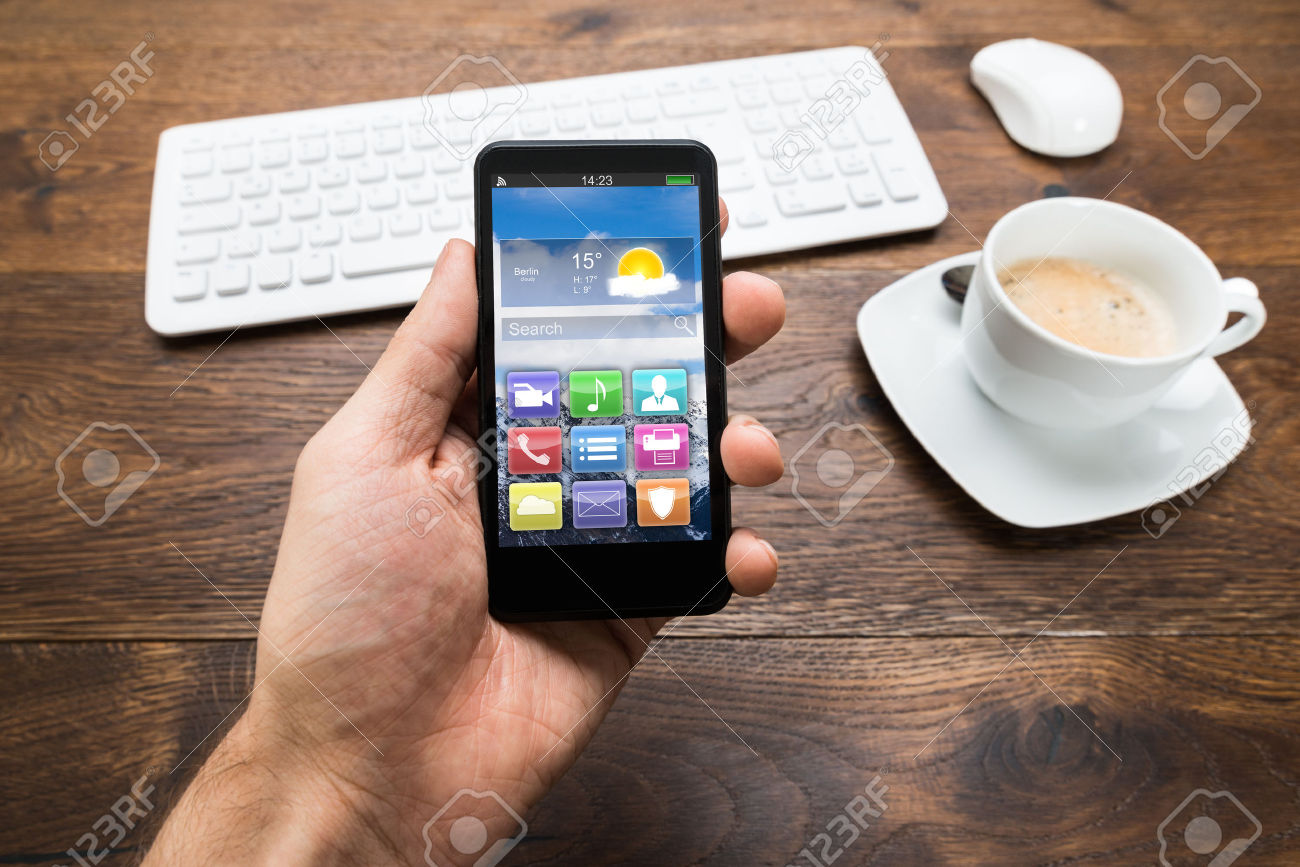smartphone: (473, 134, 733, 624)
